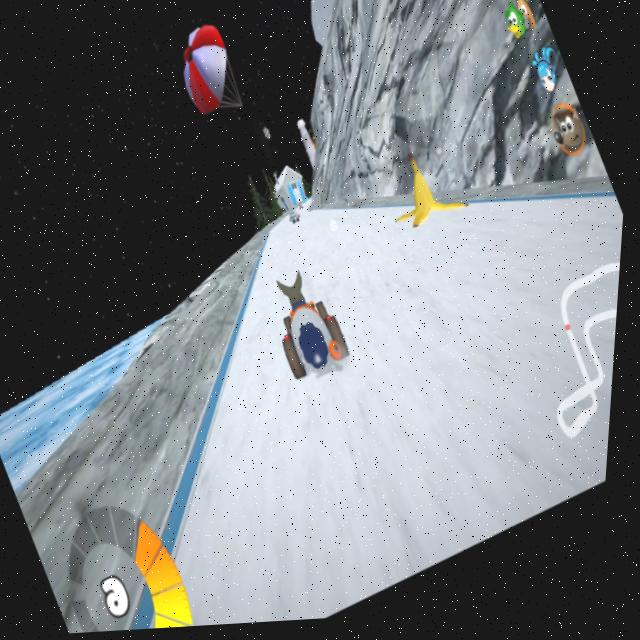enemy_kart: (288, 208, 307, 231)
obstacle: (379, 149, 479, 257)
off_track: (0, 260, 253, 475)
player_kart: (258, 263, 373, 399)
track: (261, 210, 357, 286)
